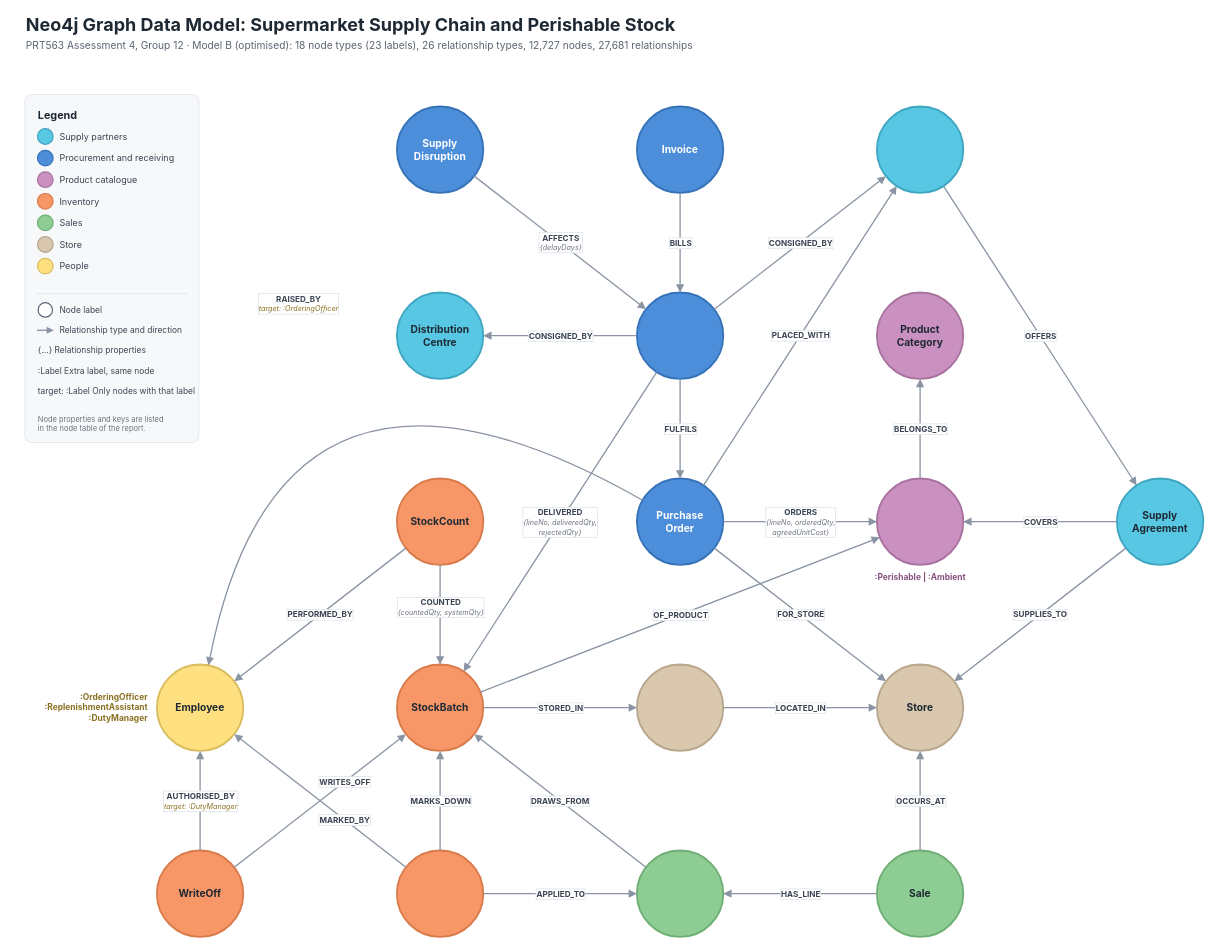
This 1214x948 diagram has some shape labels left out. Each missing label, with the centre of its shape:
"Delivery" goes at point (680, 335).
"Markdown" goes at point (440, 893).
"Product" goes at point (920, 521).
"SaleLine" goes at point (680, 893).
"ShelfBay" goes at point (680, 707).
"Supplier" goes at point (920, 149).
